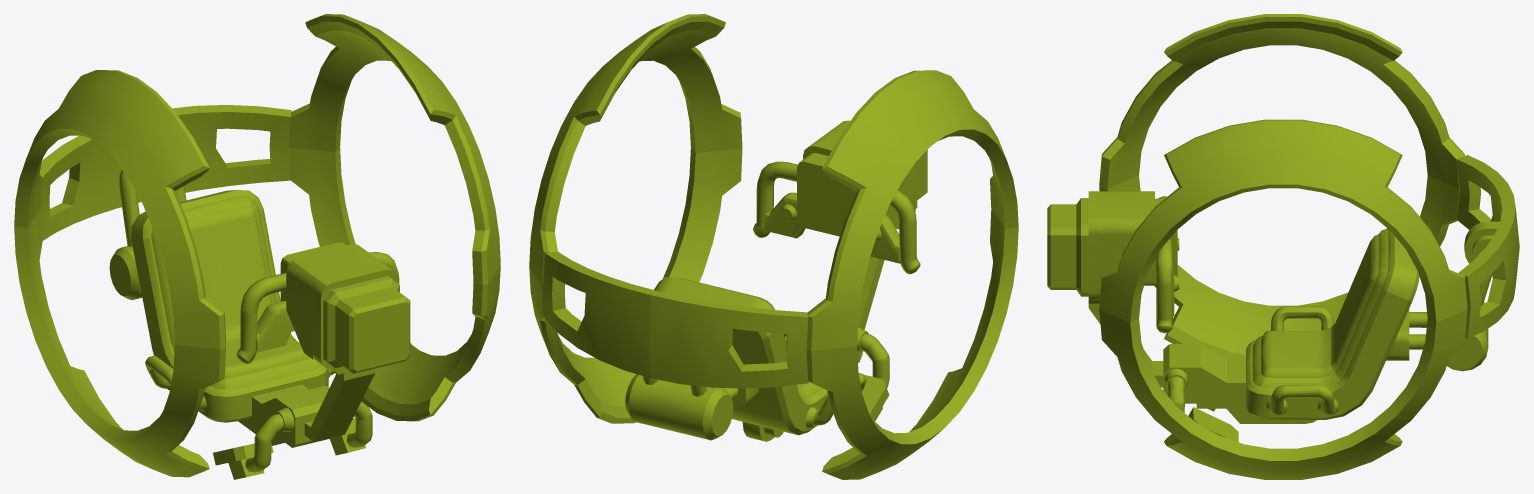
The model's file is obj_interactive_turretseat_02_sphere.fbx.
3 renders of one model, left to right at view 1: azimuth 30°, elevation 25°; view 2: azimuth 150°, elevation 25°; view 3: azimuth 270°, elevation 25°, orthographic. The views are drawn at different scales.
Visible parts, largest first — view 1: 28_lp.027; view 2: 28_lp.027; view 3: 28_lp.027.
Boxes of the visible parts, x1,y1,x2,y2 form: 28_lp.027: [14, 14, 500, 479]; 28_lp.027: [529, 14, 1018, 479]; 28_lp.027: [1047, 14, 1519, 479].
Bounding box in the file's own units: 5.31 × 5.94 × 7.
